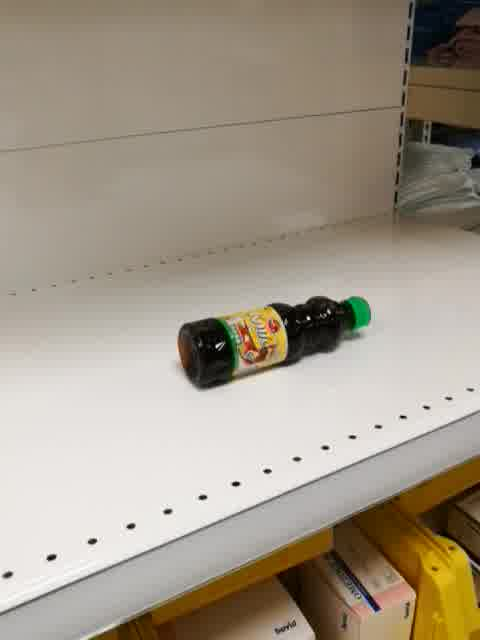cookingoil: (176, 294, 375, 392)
